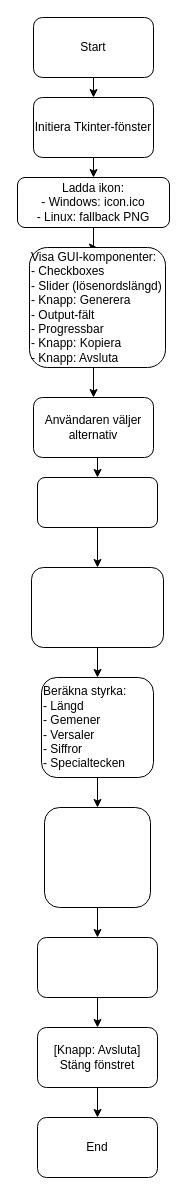
The diagram is 187 pixels wide and 1195 high, and some of its shapes have lost their labels. The shapes that lost their labels are listed below. From the top down, each one's centre as x and y in pixels, then its label:
At (x=97, y=502): "[Knapp: Generera Lösenord]".
At (x=97, y=607): "Generera lösenord: - Bygg teckenuppsättning - secrets.choice()".
At (x=97, y=857): "Uppdatera GUI: - Visa lösenord - Uppdatera färg - Uppdatera progressbar".
At (x=97, y=967): "[Knapp: Kopiera] Kopiera lösenord till urklipp".
